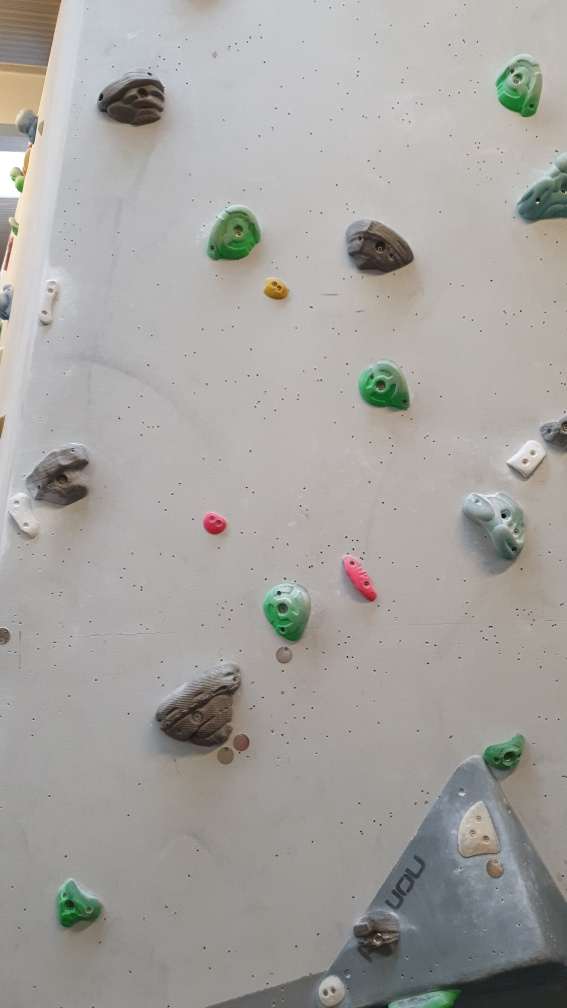Crimp: (335, 555, 381, 607), (7, 489, 39, 543), (35, 277, 59, 331)
Hand Start: (271, 643, 296, 668), (483, 855, 508, 879), (229, 731, 251, 754), (213, 743, 235, 766)
Jug: (153, 661, 242, 748), (463, 487, 531, 564), (339, 211, 415, 276), (24, 441, 92, 510), (492, 53, 551, 124), (92, 70, 169, 124), (203, 204, 264, 264), (263, 580, 314, 643), (359, 359, 413, 416), (483, 730, 529, 776)
Pinch: (260, 272, 290, 303), (199, 510, 227, 536)
